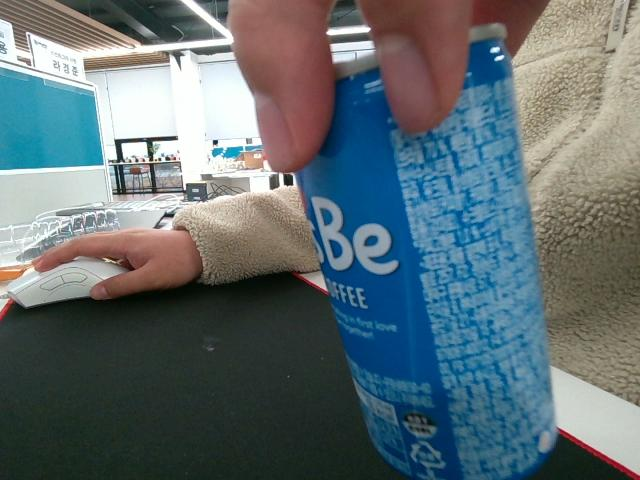letsbe: (292, 22, 558, 479)
